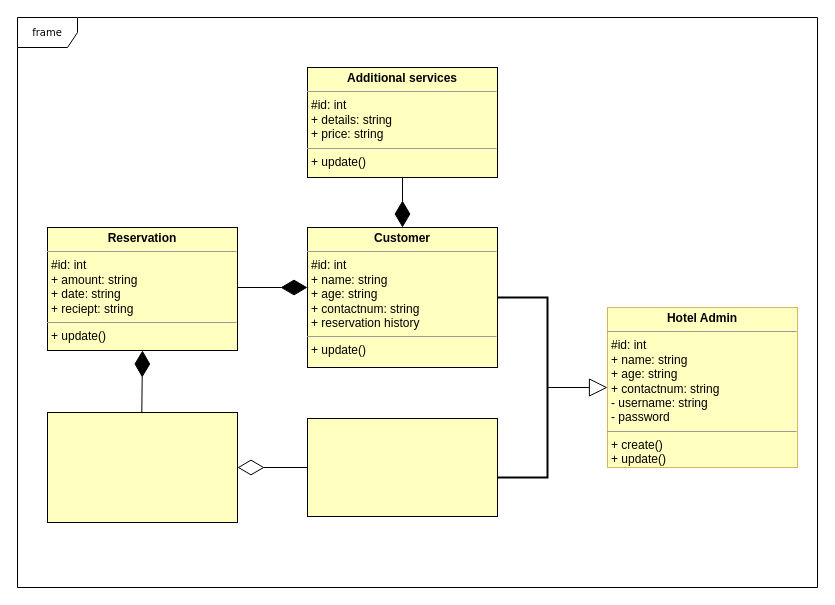
This 835x605 diagram has some shape labels left out. The shapes that lost their labels are listed below. From the top down, each one's centre as x and y in pixels, then its label:
At point 142,467: "Rooms #id: int + details: string + date: string + update()".
At point 402,467: "Employee + credentials: string + add() + update()".
